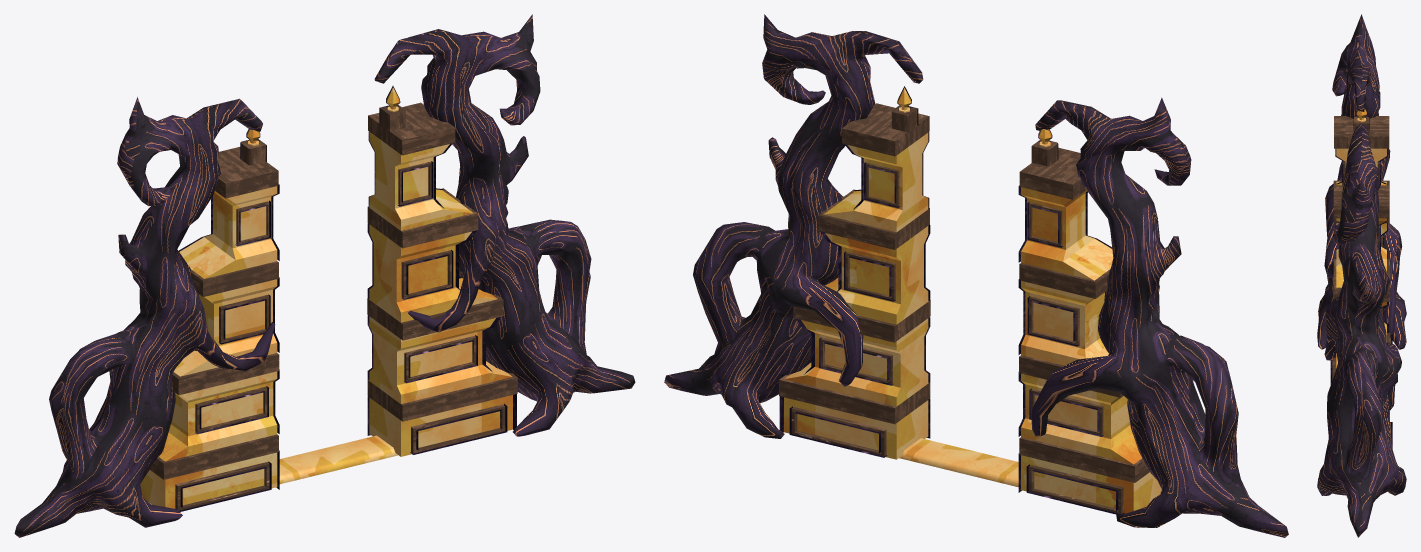
The model's file is Skydoor_Art.glb.
3 views of the same model, side by side, from view 1: azimuth 30°, elevation 25°; view 2: azimuth 150°, elevation 25°; view 3: azimuth 270°, elevation 25° (orthographic). The views are drawn at different scales.
Visible parts, largest first — view 1: Skydoor_Art; view 2: Skydoor_Art; view 3: Skydoor_Art.
Part boxes in pixels (x1,y1,x2,y2): Skydoor_Art: (14, 14, 635, 537); Skydoor_Art: (664, 14, 1288, 537); Skydoor_Art: (1317, 14, 1406, 537).
Size of what is drawn, in the model's own units: 15.52 by 9.85 by 2.41.
Materials: 4 (4 with a texture image).
